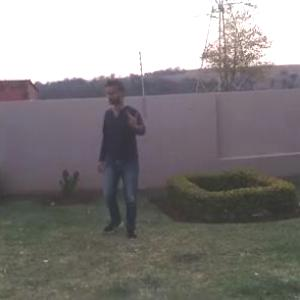takeoff-hand: (121, 106, 148, 134)
